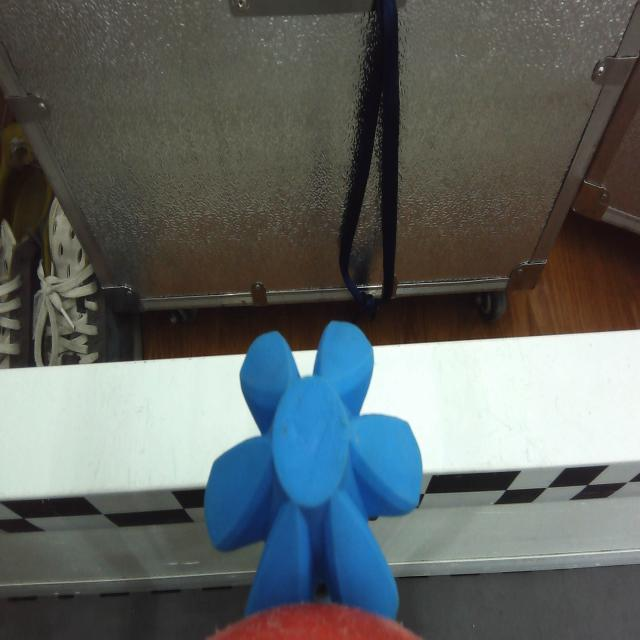zblue-Stake-Head: (204, 322, 424, 624)
